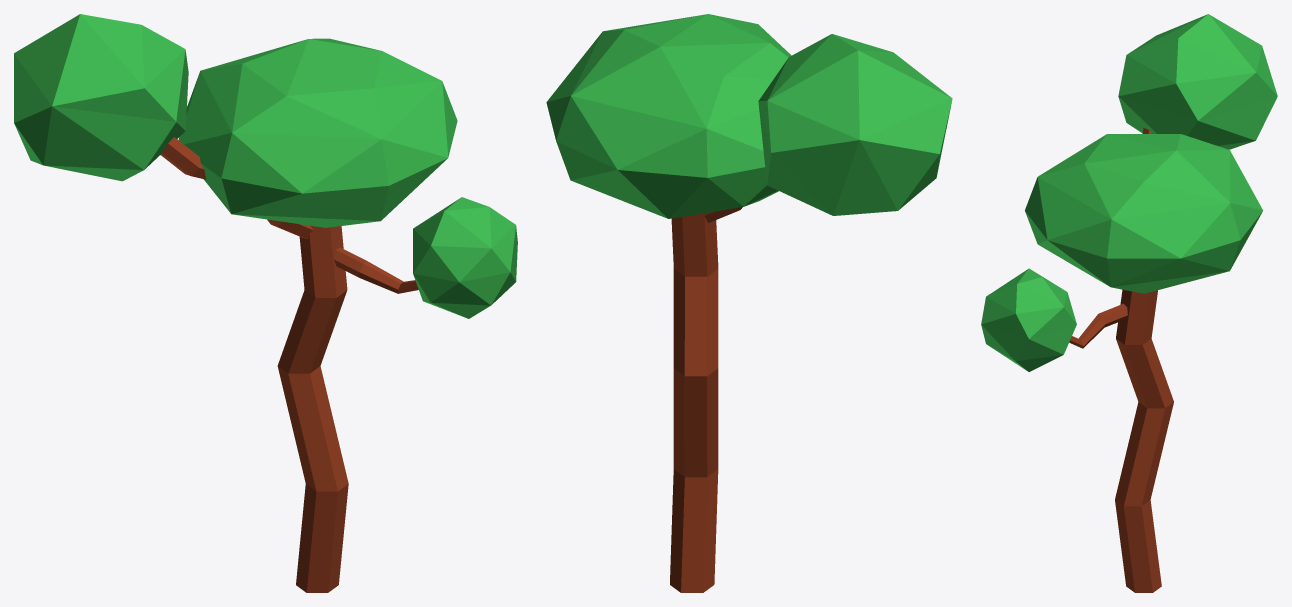
The model's file is splitTree.001.fbx.
3 renders of one model, left to right at view 1: azimuth 30°, elevation 25°; view 2: azimuth 150°, elevation 25°; view 3: azimuth 270°, elevation 25°, orthographic. The views are drawn at different scales.
Parts seen in each view (by area): view 1: Tree.007.Big.Leaves, Tree.007.Medium.Leaves, Tree.007, Tree.007.Small.Leaves; view 2: Tree.007.Big.Leaves, Tree.007.Medium.Leaves, Tree.007; view 3: Tree.007.Big.Leaves, Tree.007.Medium.Leaves, Tree.007, Tree.007.Small.Leaves.
Part boxes in pixels (x1=…): Tree.007.Big.Leaves: x1=178, y1=38, x2=457, y2=227; Tree.007.Medium.Leaves: x1=14, y1=14, x2=188, y2=181; Tree.007: x1=161, y1=137, x2=418, y2=592; Tree.007.Small.Leaves: x1=413, y1=197, x2=517, y2=318; Tree.007.Big.Leaves: x1=546, y1=14, x2=791, y2=218; Tree.007.Medium.Leaves: x1=758, y1=34, x2=952, y2=215; Tree.007: x1=670, y1=207, x2=742, y2=592; Tree.007.Big.Leaves: x1=1025, y1=134, x2=1263, y2=293; Tree.007.Medium.Leaves: x1=1118, y1=14, x2=1277, y2=149; Tree.007: x1=1069, y1=128, x2=1173, y2=592; Tree.007.Small.Leaves: x1=981, y1=268, x2=1076, y2=371.
Bounding box in the file's own units: 649 × 911 × 498.
